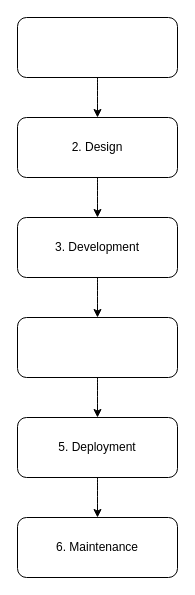
Some shapes in this 195 by 595 pixel diagram are drawn without their labels. The shapes that lost their labels are listed below. From the top down, each one's centre as x and y in pixels, then its label:
At point 97,47: "1. Requirements".
At point 97,347: "4. Testing".
